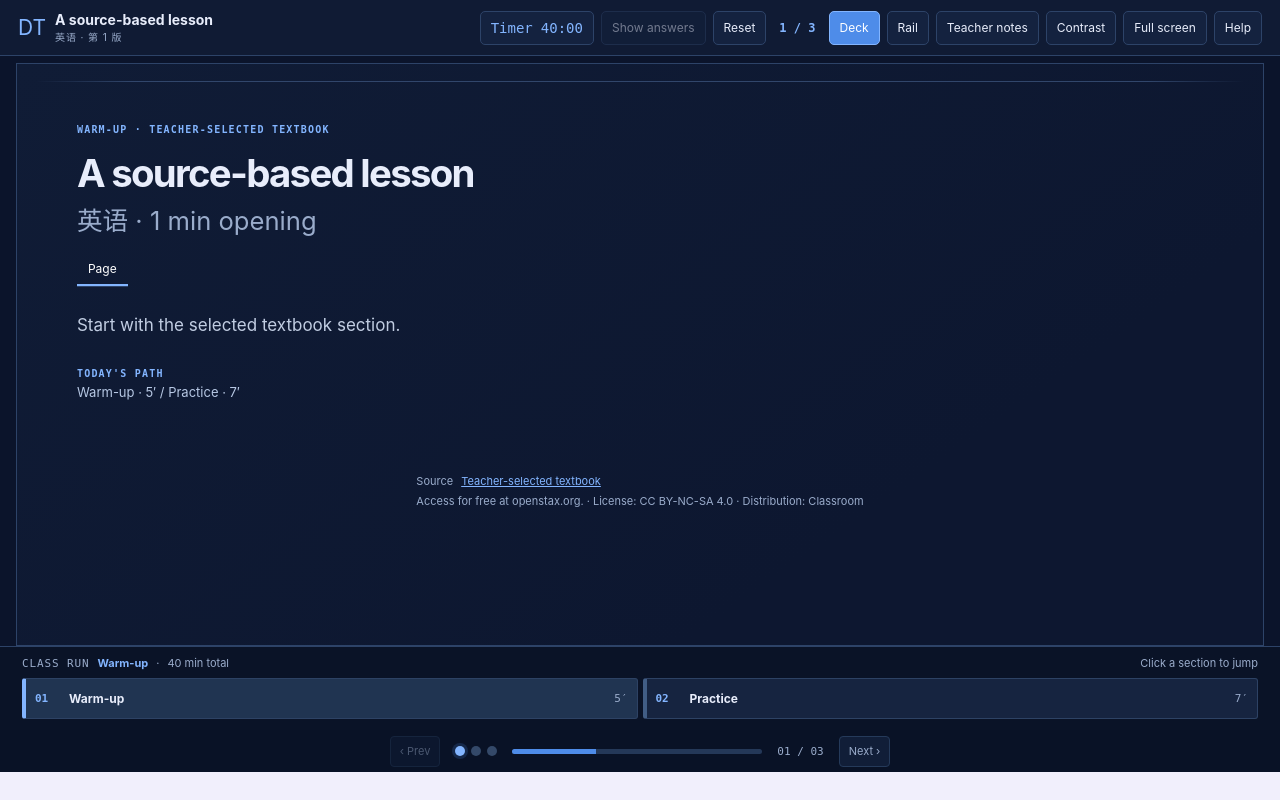
Test case: CoursewarePlayer user flows › user_sees_optional_practice_without_teacher_notes_or_answers_in_student_projection
Click the button named "Go to page 2" at (476, 751), box [471, 746, 481, 756]
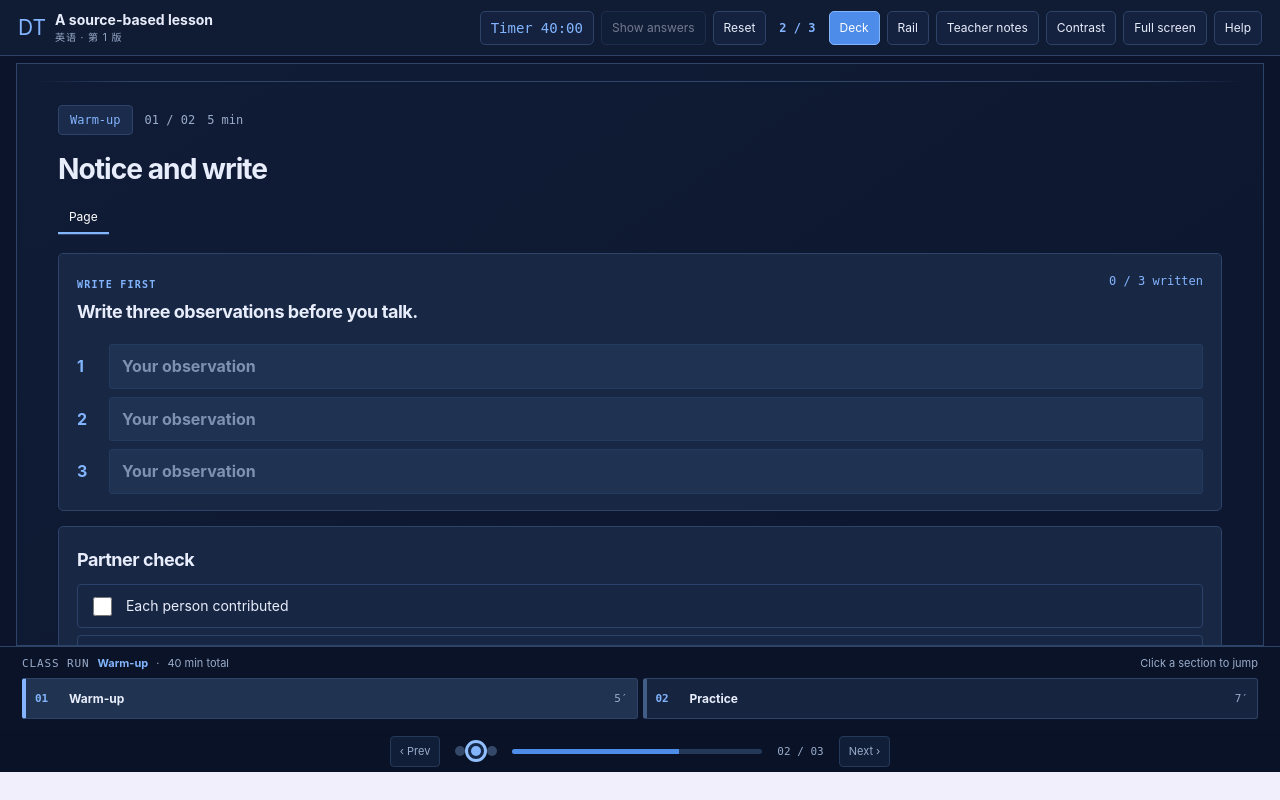
Press m
Click the button with aria-label "Practice · 7 min" at (714, 698), box [642, 678, 1258, 719]
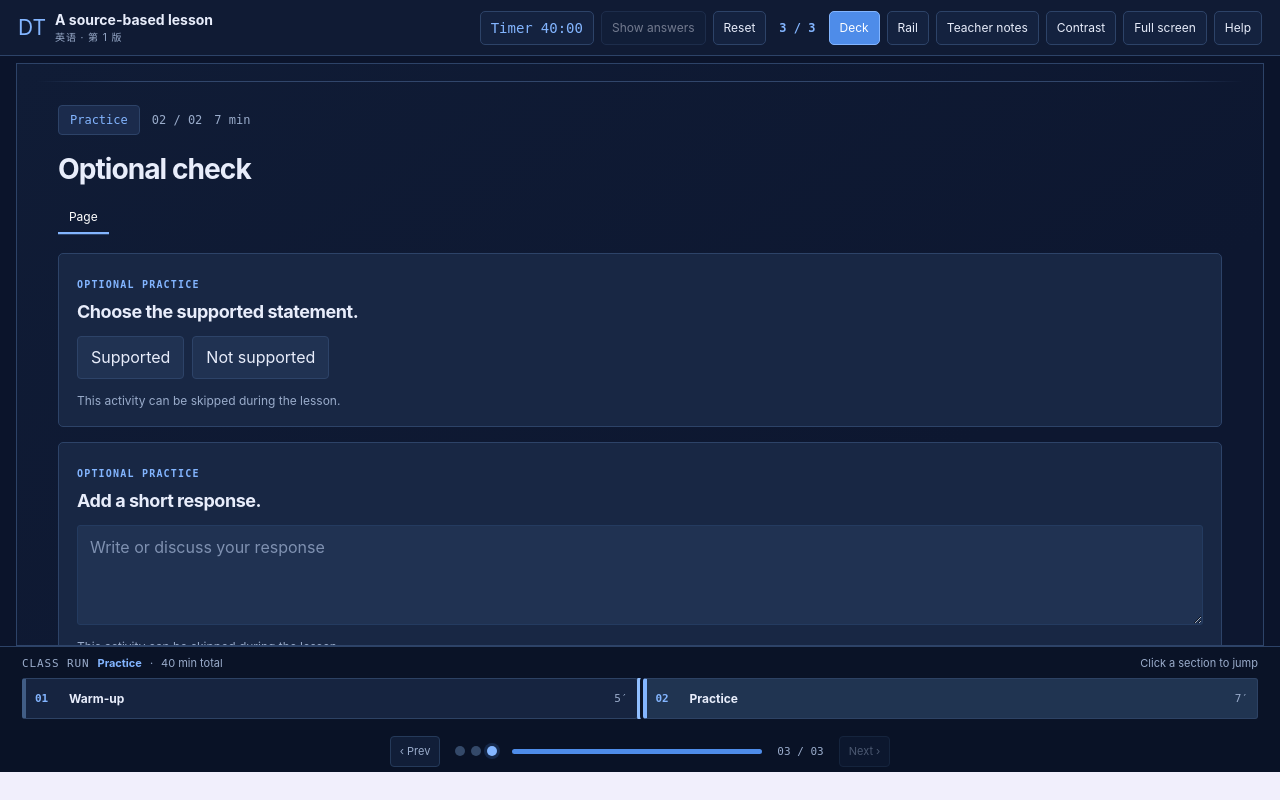
Expected: the text "Warm-up" is shown, [69, 691, 124, 706]
Result: the heading "Choose the supported statement." is shown at [77, 300, 358, 322]
